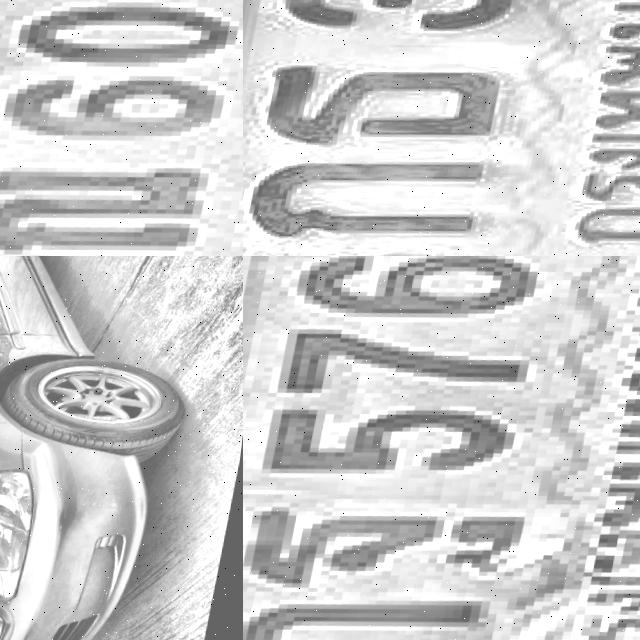license-plate: (243, 256, 640, 640), (243, 0, 640, 256), (0, 0, 243, 256)
